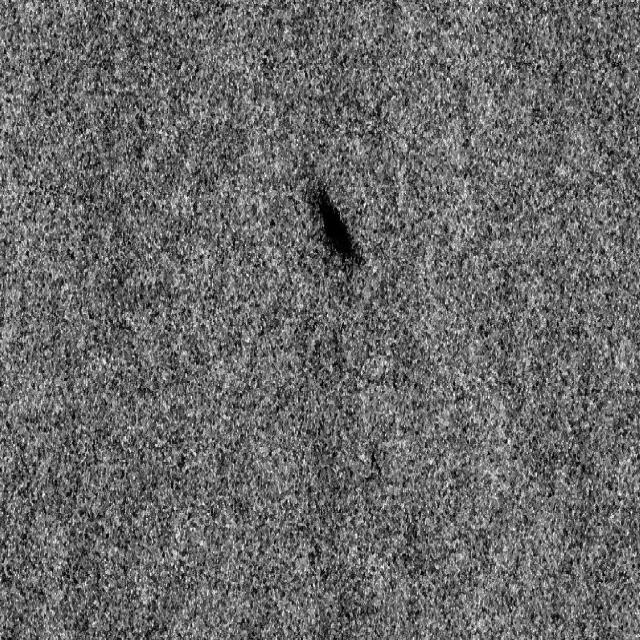oil-spill: (305, 172, 370, 285)
